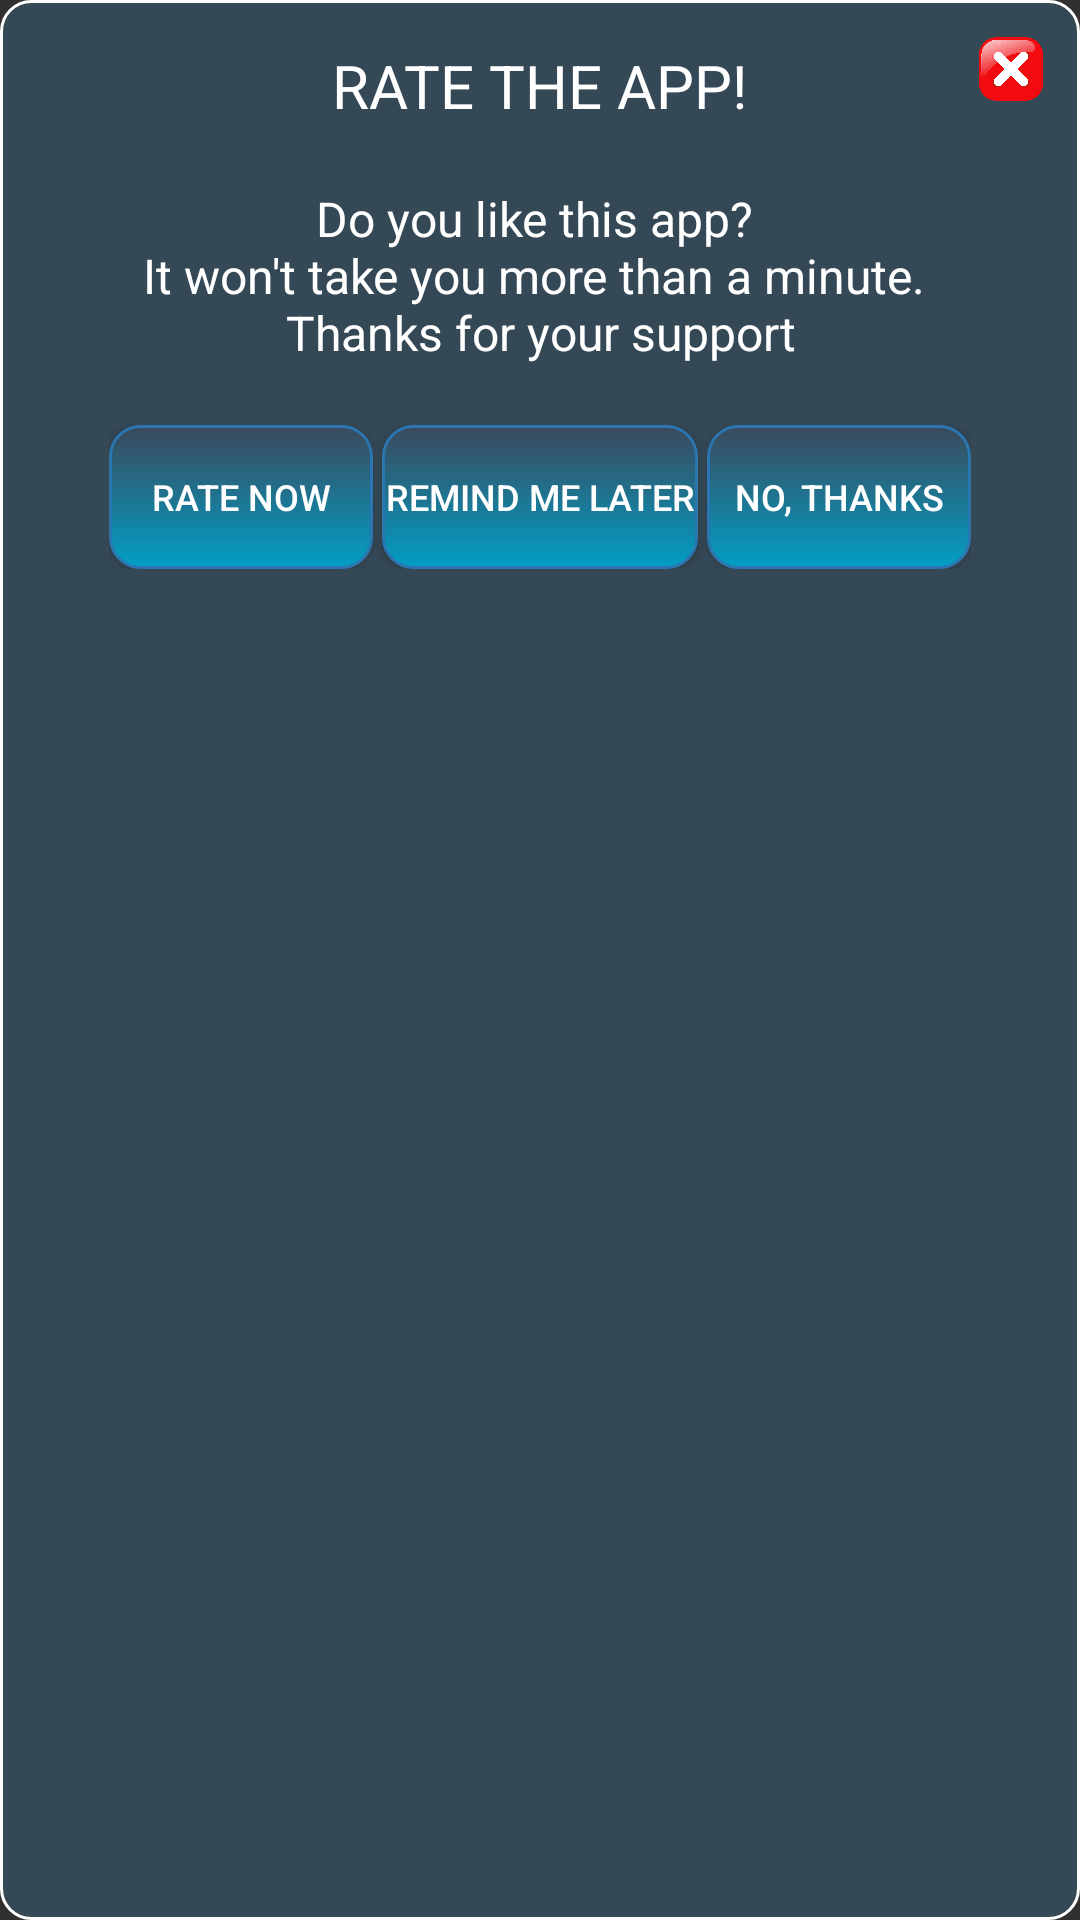

Where to tap for icons on this 1080*1920 app screen, as (x=x, y=y):
exit: (x=1011, y=69)
